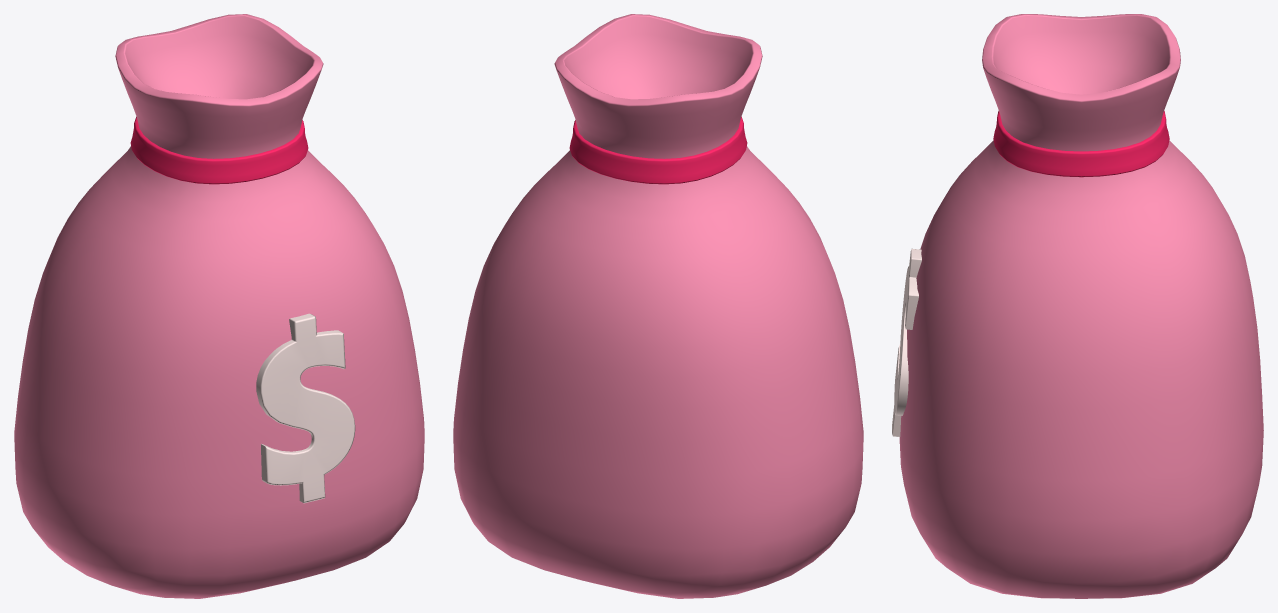
File: Public_1_Money_Bag_Dollar_1.glb
3 renders of one model, left to right at view 1: azimuth 30°, elevation 25°; view 2: azimuth 150°, elevation 25°; view 3: azimuth 270°, elevation 25°, orthographic.
Parts seen in each view (by area): view 1: Public_1_Money_Bag_Dollar_1; view 2: Public_1_Money_Bag_Dollar_1; view 3: Public_1_Money_Bag_Dollar_1.
Boxes of the visible parts, x1,y1,x2,y2 form: Public_1_Money_Bag_Dollar_1: [14, 14, 424, 598]; Public_1_Money_Bag_Dollar_1: [453, 14, 863, 598]; Public_1_Money_Bag_Dollar_1: [892, 14, 1263, 598].
Bounding box in the file's own units: 2.03 × 2.64 × 1.78.
Materials: 1 (1 with a texture image).
